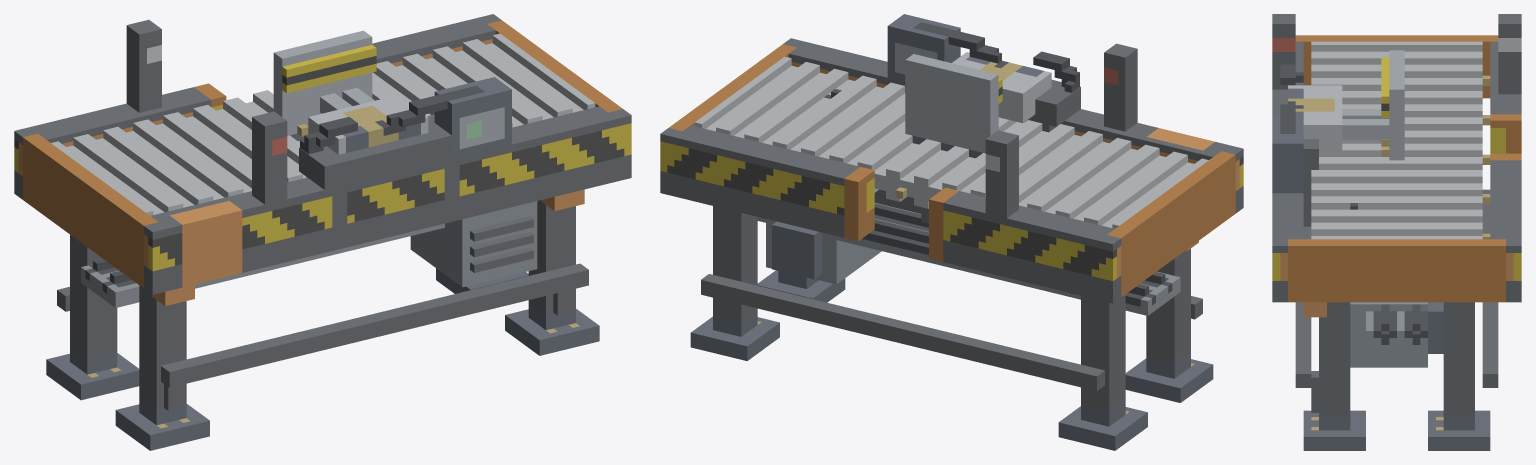
File: conveyor_diverter.glb
3 renders of one model, left to right at view 1: azimuth 30°, elevation 25°; view 2: azimuth 150°, elevation 25°; view 3: azimuth 270°, elevation 25°, orthographic. The views are drawn at different scales.
Parts seen in each view (by area): view 1: frame, pusher; view 2: frame, pusher; view 3: frame, pusher.
Part boxes in pixels (x1=…): frame: x1=14, y1=14, x2=631, y2=450; pusher: x1=273, y1=30, x2=376, y2=140; frame: x1=660, y1=14, x2=1243, y2=450; pusher: x1=905, y1=54, x2=1002, y2=158; frame: x1=1272, y1=14, x2=1521, y2=450; pusher: x1=1342, y1=50, x2=1404, y2=160.
Bounding box in the file's own units: 2 × 1.25 × 1.
